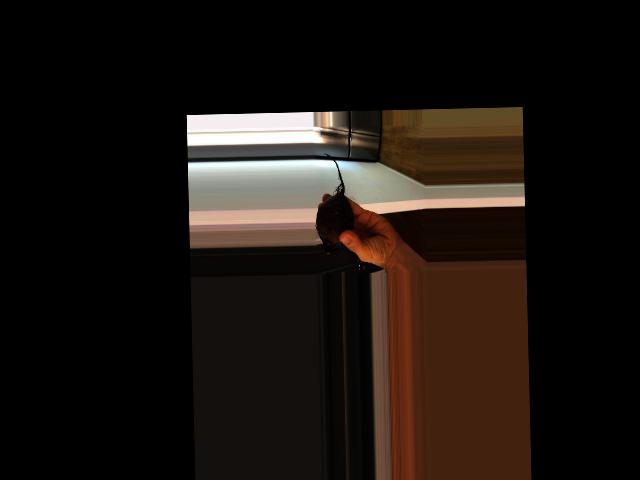beet: (314, 152, 354, 258)
